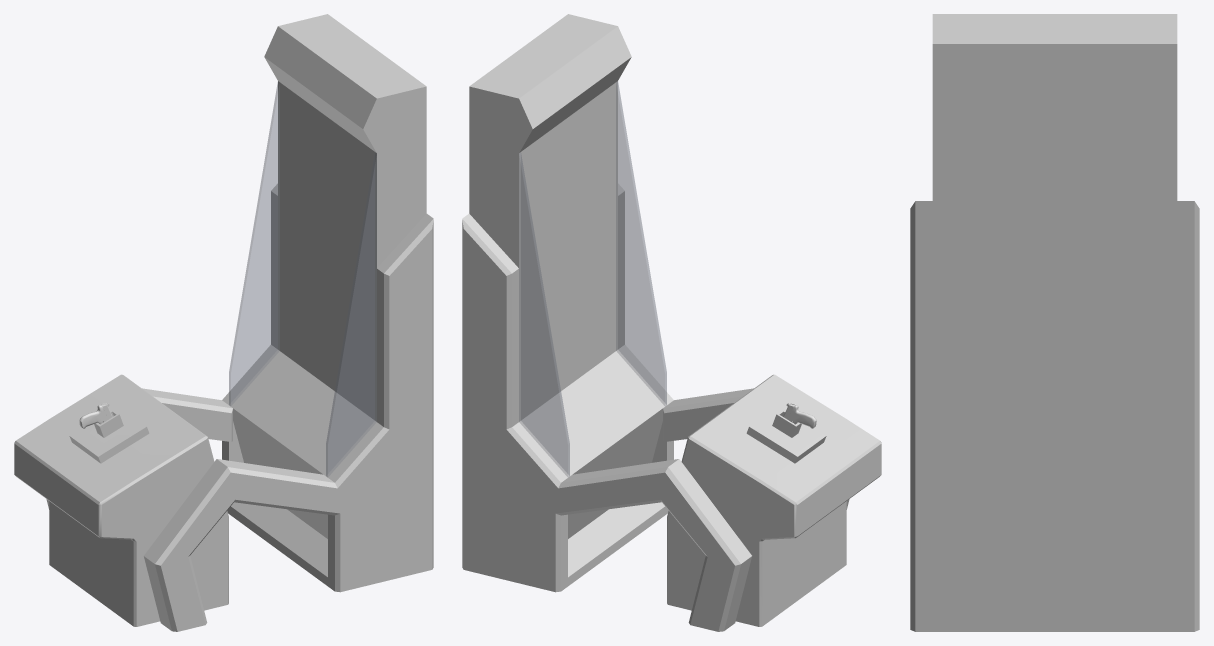
Rendered from MaquinaDisparos.fbx.
The picture shows the model from 3 angles, left to right: view 1: azimuth 30°, elevation 25°; view 2: azimuth 150°, elevation 25°; view 3: azimuth 270°, elevation 25°; orthographic projection. The views are drawn at different scales.
Parts seen in each view (by area): view 1: Maquina_msh, Decoracion_D_msh, SoportePistola_msh, Cristalera_I_msh, Cristalera_D_msh, Decoracion_I_msh; view 2: Maquina_msh, Decoracion_I_msh, SoportePistola_msh, Cristalera_D_msh, Cristalera_I_msh, Decoracion_D_msh; view 3: Maquina_msh, Decoracion_I_msh, Decoracion_D_msh.
Part boxes in pixels (<box>): Maquina_msh: <box>229,14,426,586</box>; Decoracion_D_msh: <box>144,213,433,631</box>; SoportePistola_msh: <box>14,374,228,626</box>; Cristalera_I_msh: <box>229,81,279,405</box>; Cristalera_D_msh: <box>326,152,376,476</box>; Decoracion_I_msh: <box>46,183,277,513</box>; Maquina_msh: <box>469,14,666,586</box>; Decoracion_I_msh: <box>462,213,752,631</box>; SoportePistola_msh: <box>667,374,881,626</box>; Cristalera_D_msh: <box>616,81,666,405</box>; Cristalera_I_msh: <box>519,152,569,476</box>; Decoracion_D_msh: <box>618,183,849,513</box>; Maquina_msh: <box>932,14,1177,631</box>; Decoracion_I_msh: <box>1177,201,1199,631</box>; Decoracion_D_msh: <box>910,201,932,631</box>.
Size of the model in its own units: 207 by 294 by 131.
